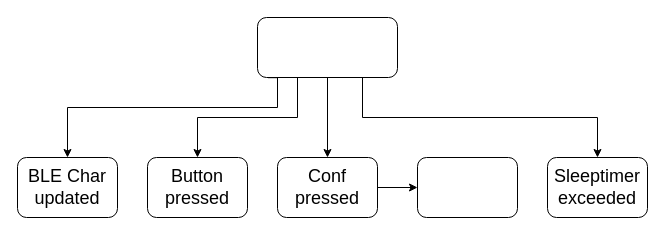
The diagram is 665 pixels wide and 235 high, and some of its shapes have lost their labels. Here are the shapes that lost their labels. From the top down, the centre of each, then its label:
At (x=327, y=47): "BLE connected".
At (x=467, y=187): "Conf Released".
